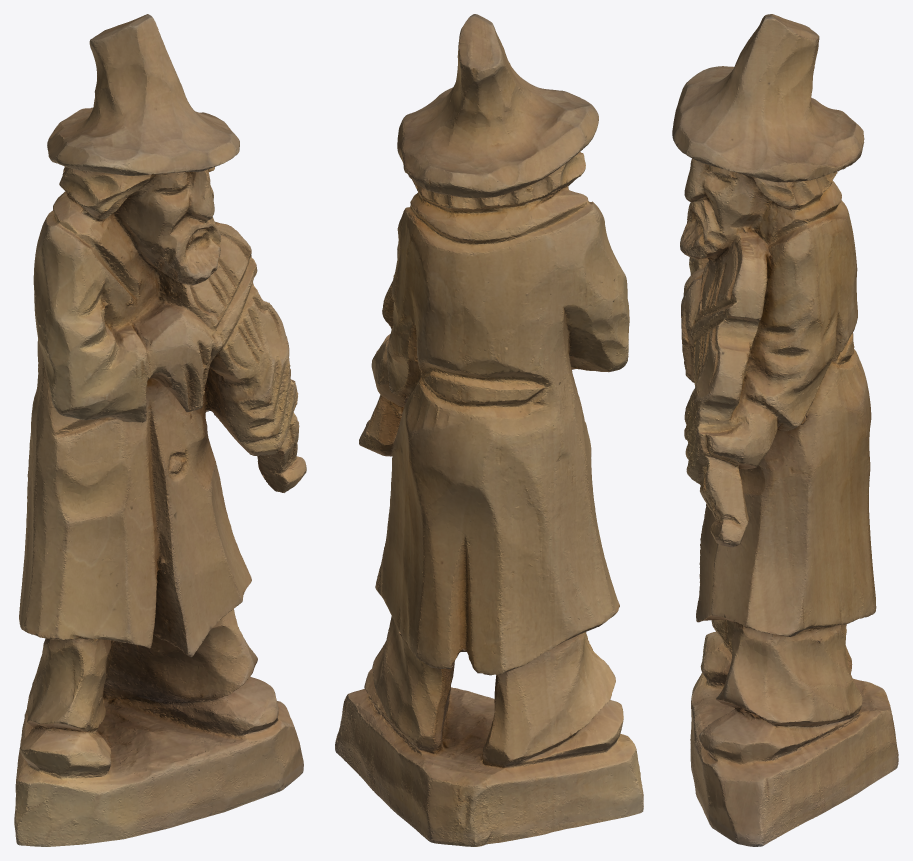
The model's file is MPL_W_E_862_lowpoly.glb.
3 renders of one model, left to right at view 1: azimuth 30°, elevation 25°; view 2: azimuth 150°, elevation 25°; view 3: azimuth 270°, elevation 25°, orthographic. The views are drawn at different scales.
Parts seen in each view (by area): view 1: MPL_W_E_862_lowpoly; view 2: MPL_W_E_862_lowpoly; view 3: MPL_W_E_862_lowpoly.
Boxes of the visible parts, x1,y1,x2,y2 form: MPL_W_E_862_lowpoly: (14, 14, 306, 846); MPL_W_E_862_lowpoly: (335, 14, 643, 846); MPL_W_E_862_lowpoly: (672, 14, 898, 846).
Bounding box in the file's own units: 0.0908 × 0.2274 × 0.0613.
Materials: 1 (1 with a texture image).
